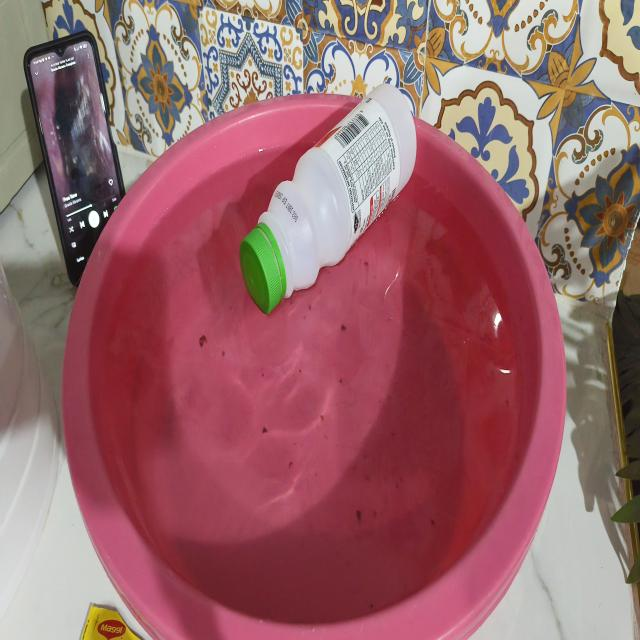Plastic Bottle: (240, 84, 417, 313)
